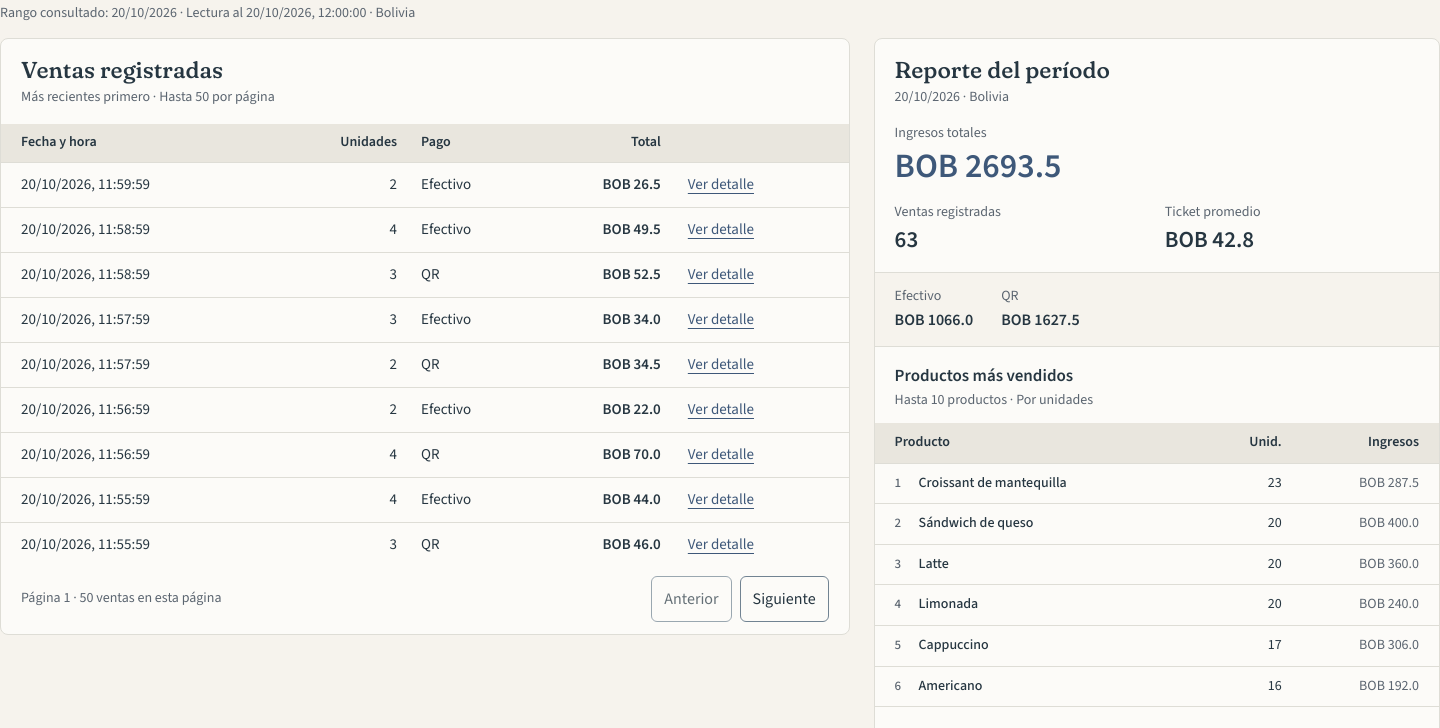
Historial y reportes, interfaz completa › página siguiente, anterior, rango y refresco vuelven a primera página
The image size is (1440, 728).
(page scrolled)
Expected: the element named "Listado de ventas" is shown, [1,124,849,564]
Click the button "Siguiente".
click(784, 599)  # box [740,576,829,622]
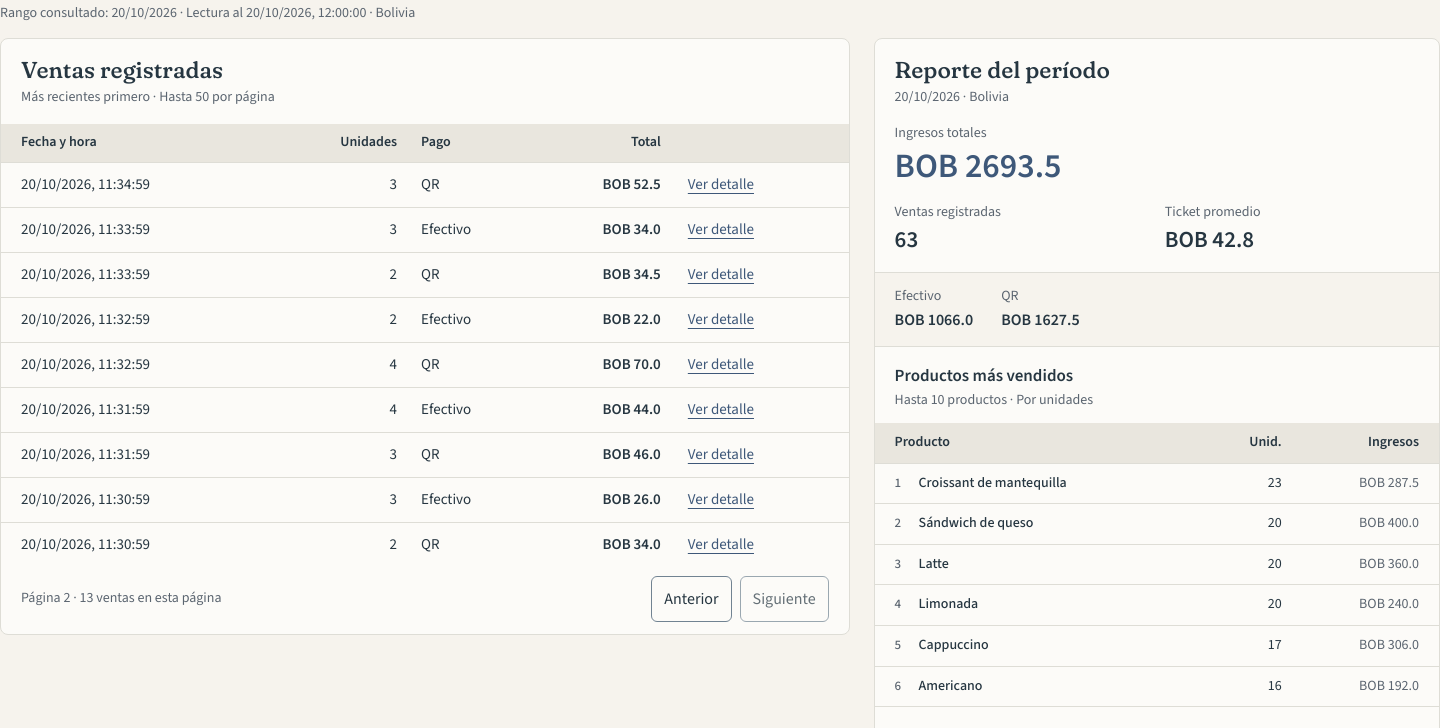
Now the text "Página 2 · 13 ventas en esta página" is shown, box [21,589,222,609]
Click the button "Anterior".
click(691, 599)  # box [651,576,732,622]
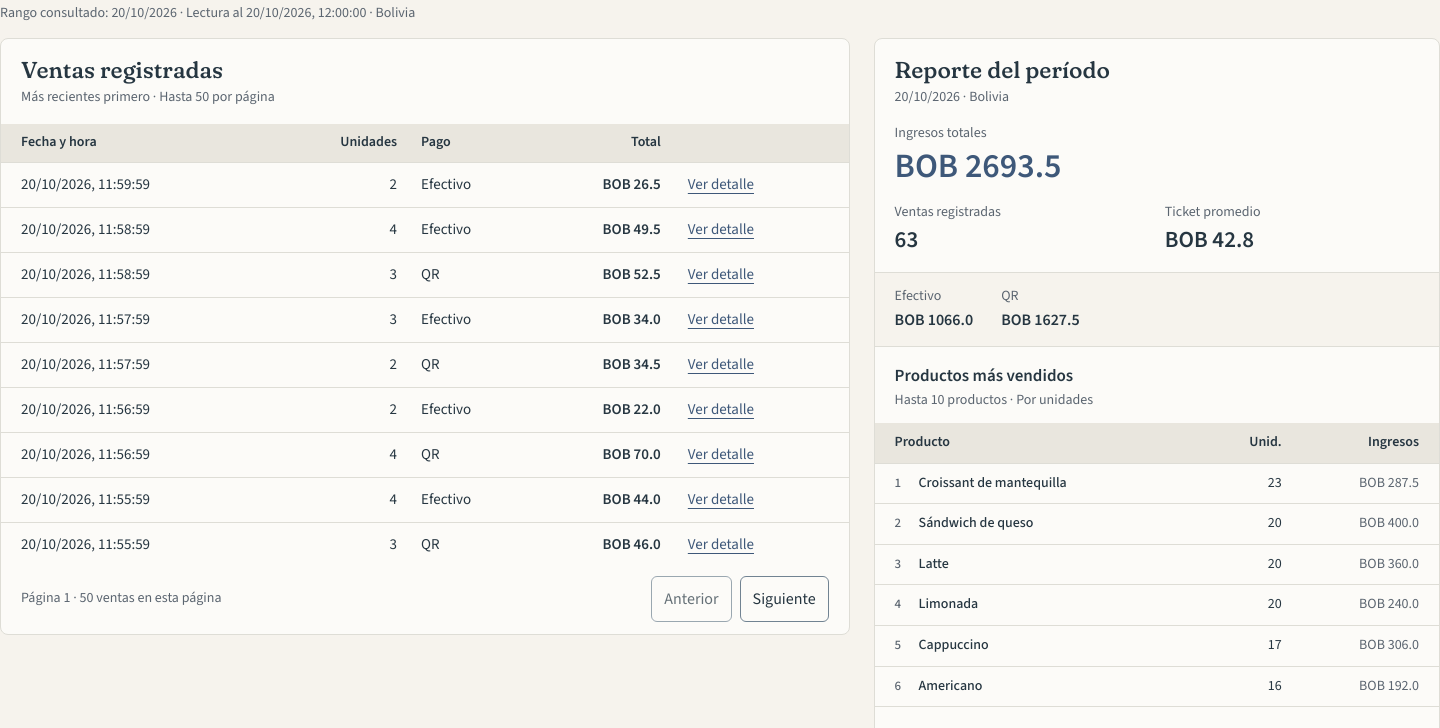
Now the text "Página 1 · 50 ventas en esta página" is shown, box [21,589,222,609]
Click the button "Siguiente".
click(784, 599)  # box [740,576,829,622]
(page scrolled)
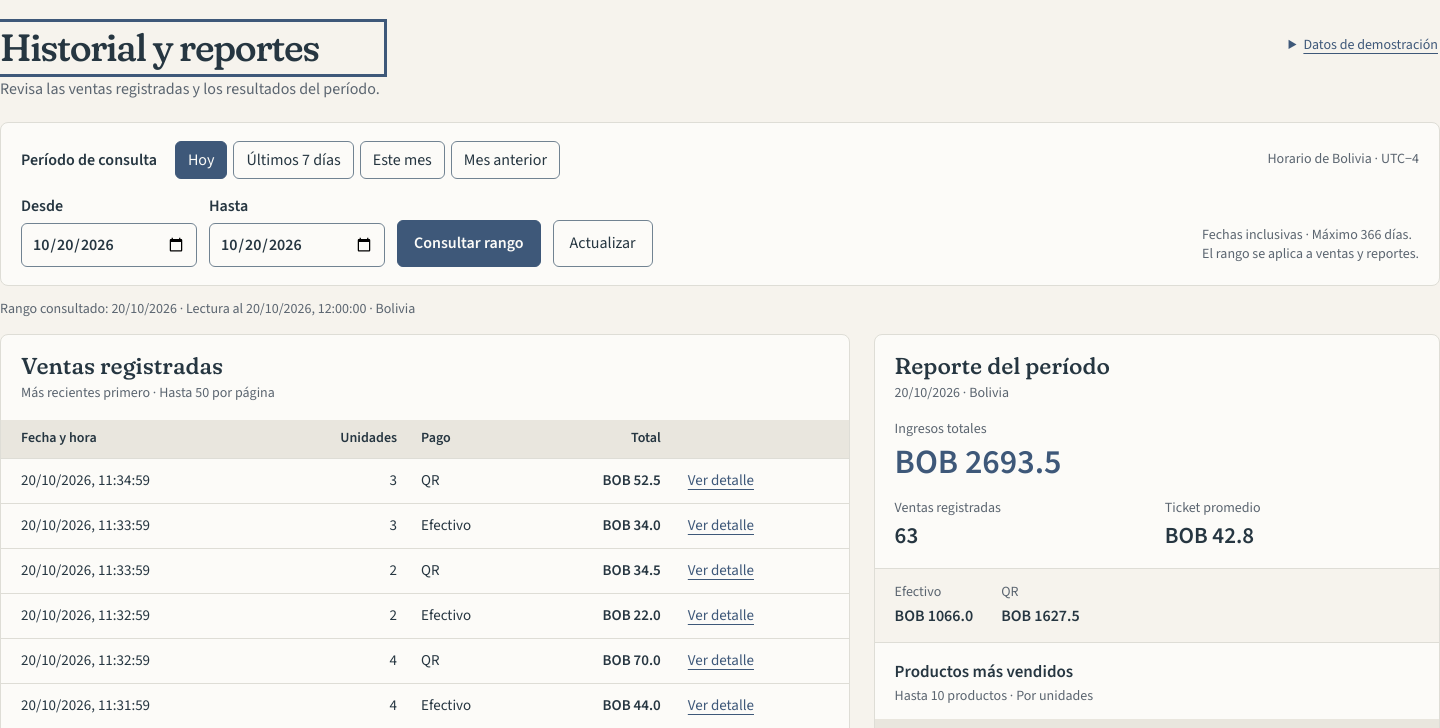
Click the button "Actualizar".
click(603, 244)  # box [553,220,653,267]
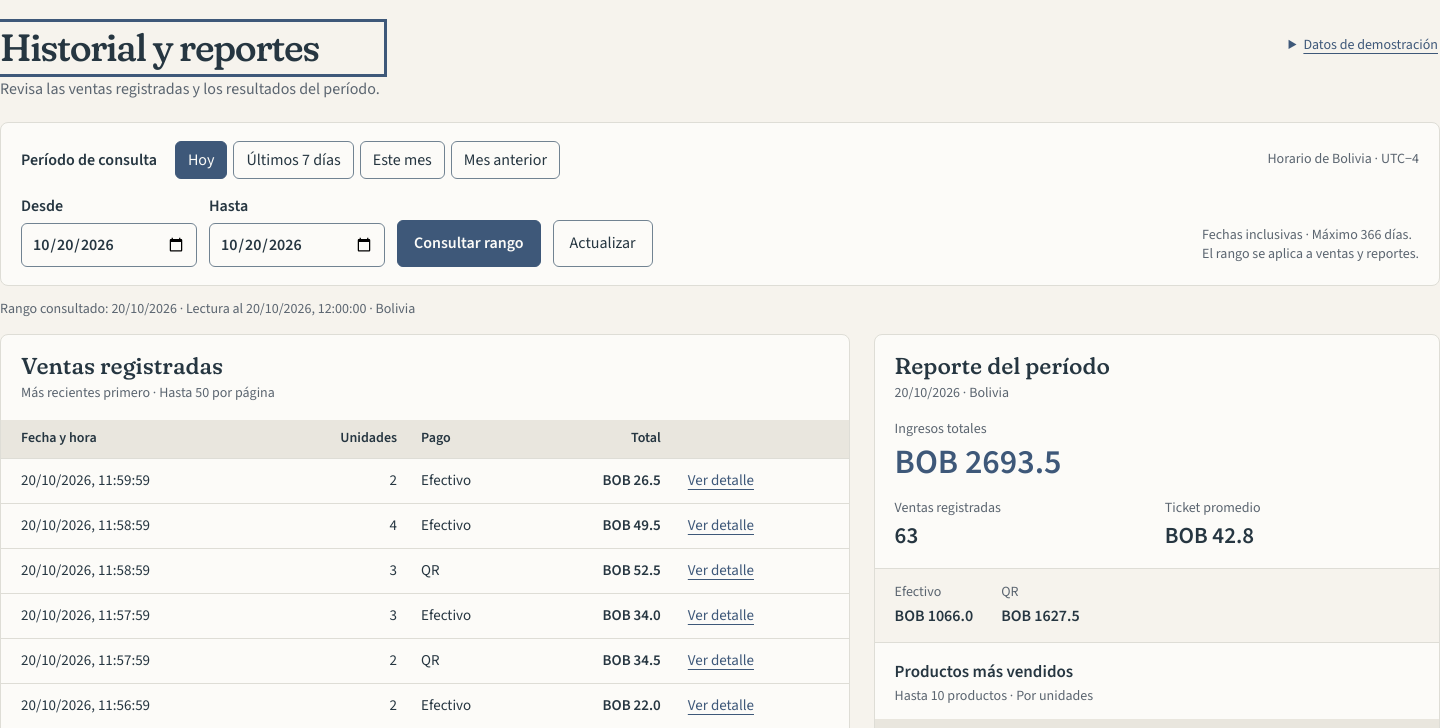
Click the button "Últimos 7 días".
click(294, 160)  # box [234,141,354,180]
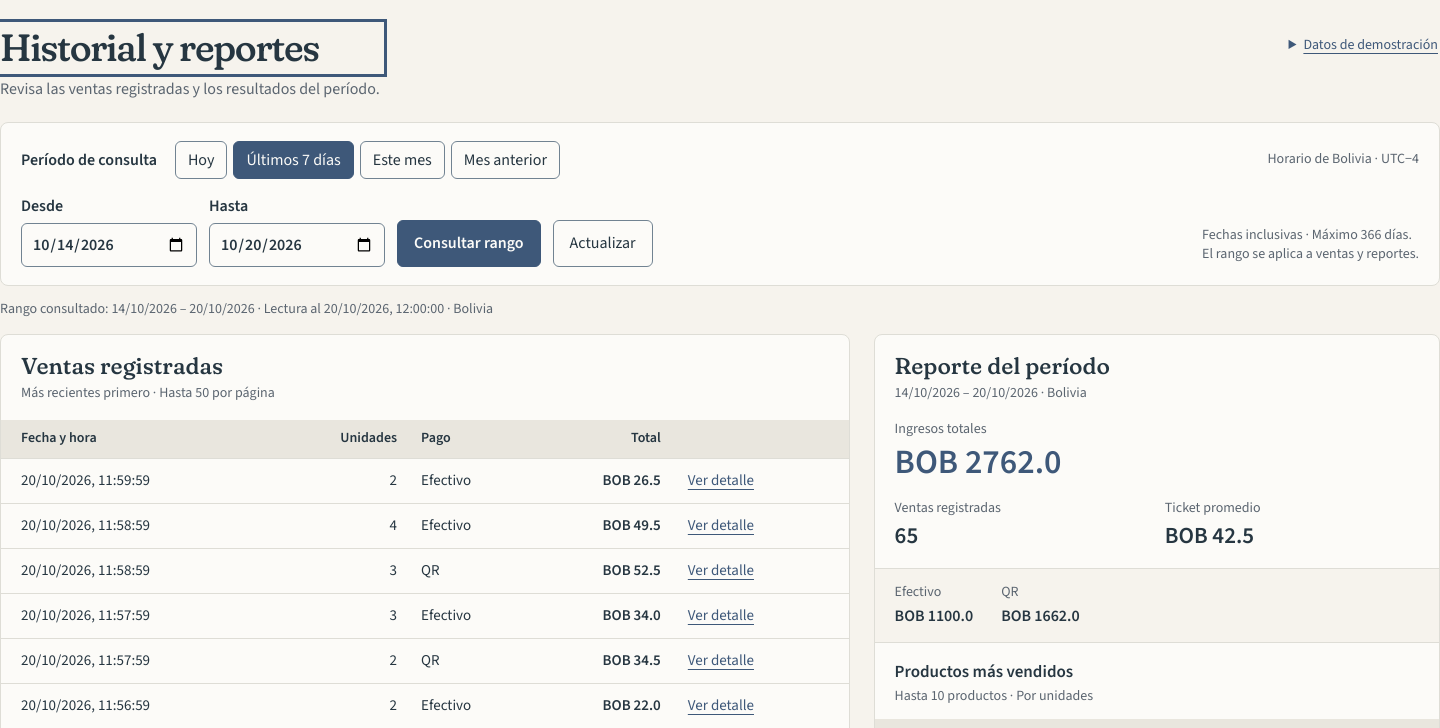
Now the text "14/10/2026 – 20/10/2026 · Bolivia" is shown, box [895,384,1110,404]
